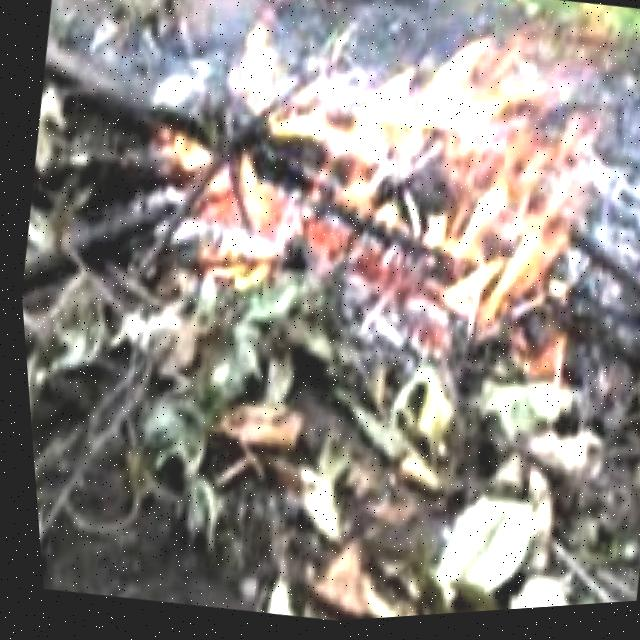Fire: (119, 0, 640, 388)
